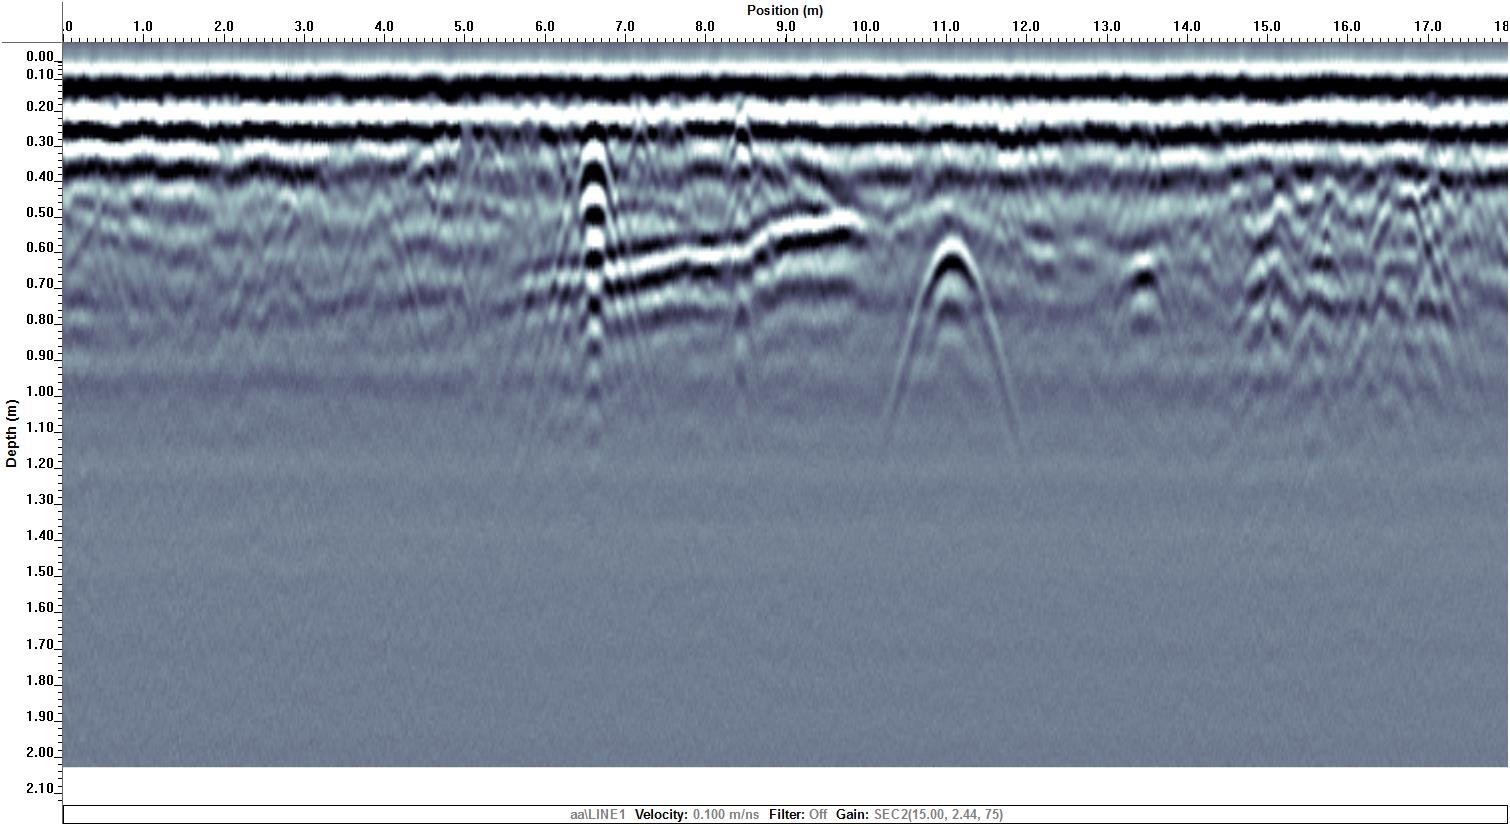hyperbola: (882, 226, 1024, 439), (1100, 249, 1190, 394), (343, 174, 422, 332)
